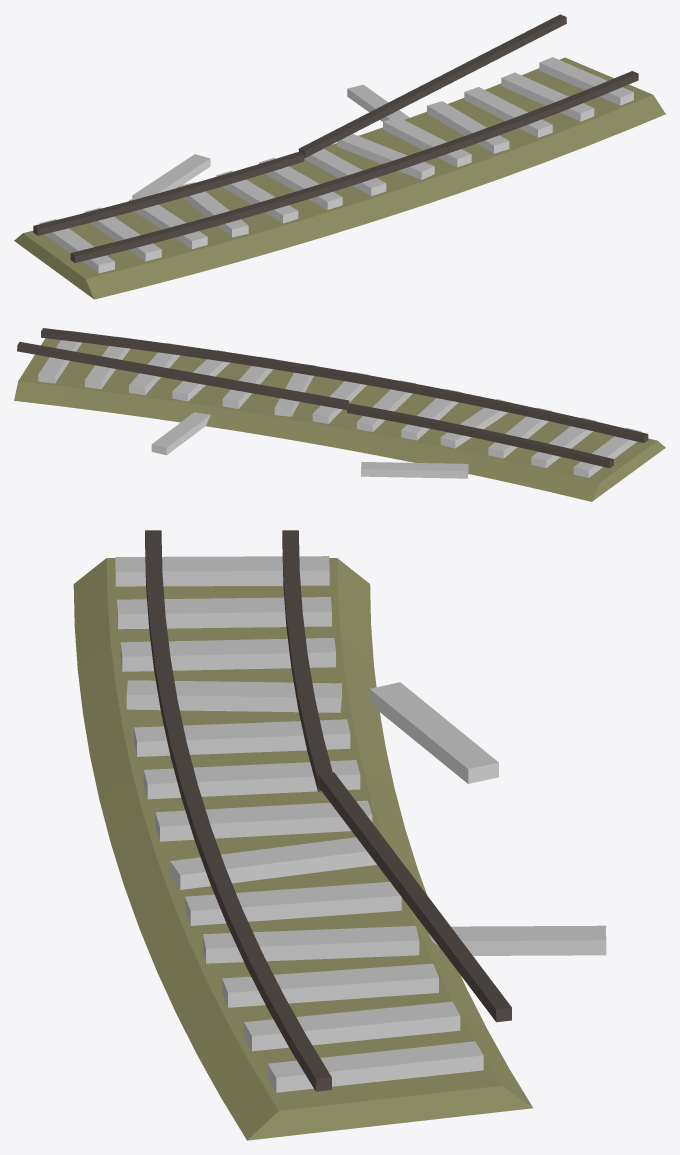
The model's file is SM_Via_CurvaR60_v4_Danada_LOD1.fbx.
The picture shows the model from 3 angles, top to bottom: view 1: azimuth 30°, elevation 25°; view 2: azimuth 150°, elevation 25°; view 3: azimuth 270°, elevation 25°; orthographic projection. The views are drawn at different scales.
Parts seen in each view (by area): view 1: SM_via_trazado_v14_LOD1; view 2: SM_via_trazado_v14_LOD1; view 3: SM_via_trazado_v14_LOD1.
Boxes of the visible parts, bbox=[...] form: SM_via_trazado_v14_LOD1: bbox=[14, 14, 665, 299]; SM_via_trazado_v14_LOD1: bbox=[14, 328, 665, 501]; SM_via_trazado_v14_LOD1: bbox=[73, 530, 606, 1140].
Size of the model in its own units: 16 by 1.38 by 6.47.
